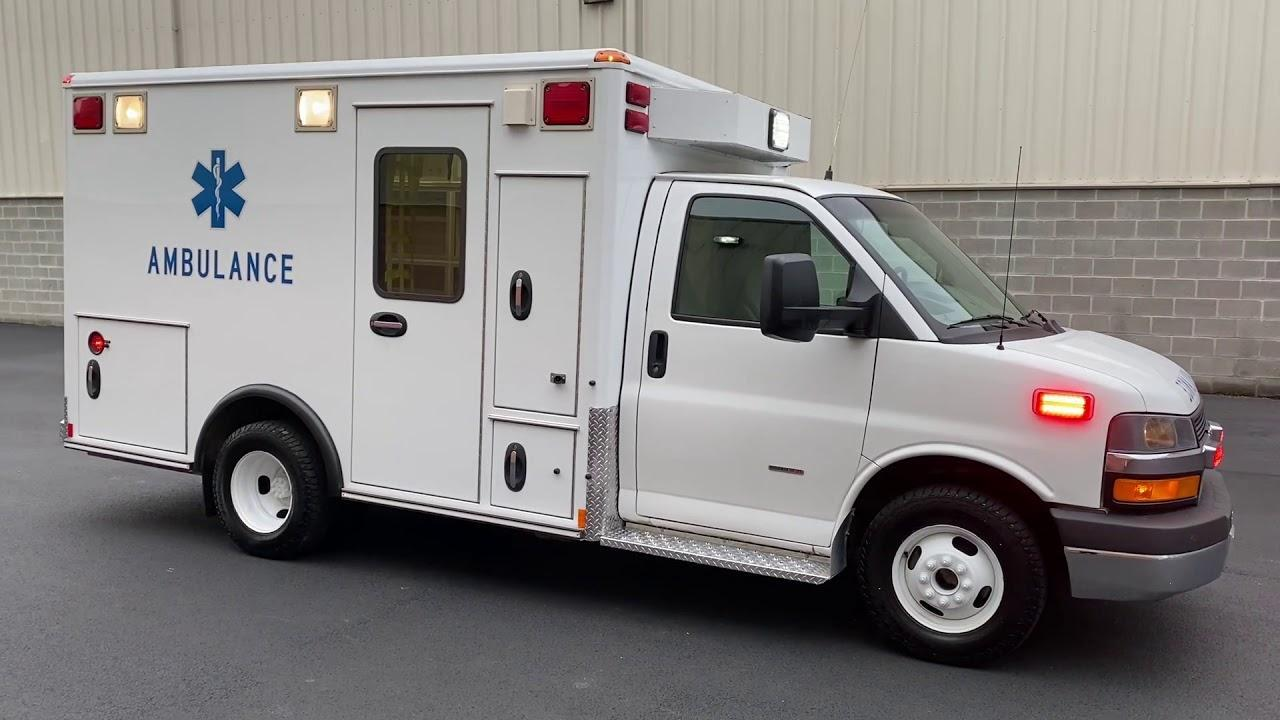Ambulance: (142, 234, 304, 291), (173, 140, 260, 230)
